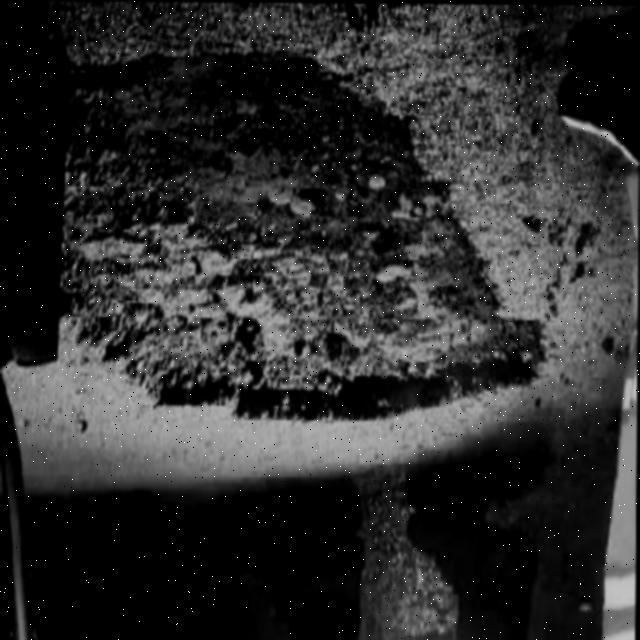pothole: (58, 45, 552, 428)
